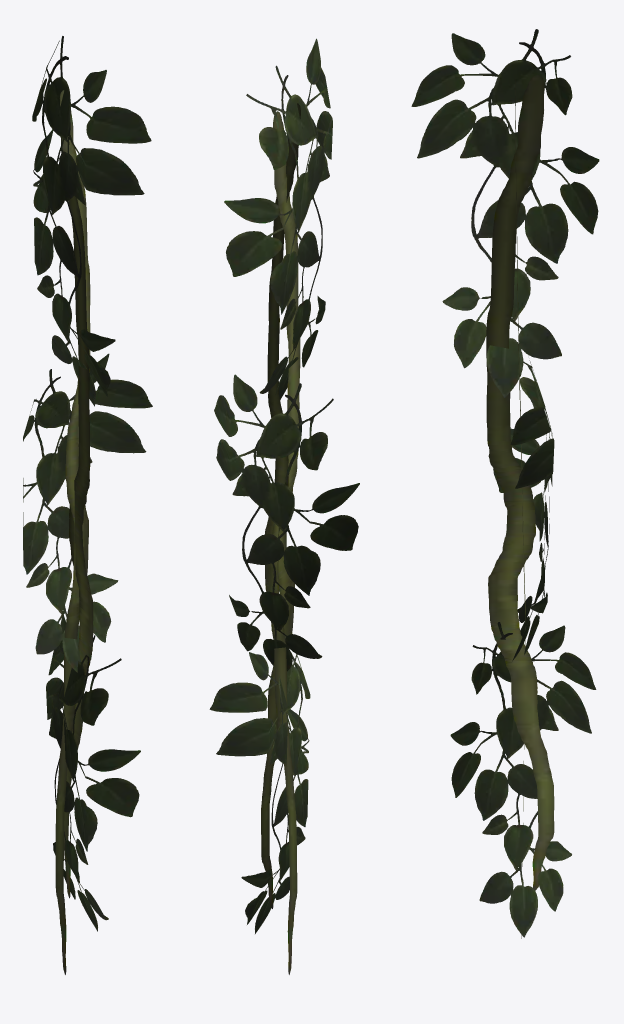
3 renders of one model, left to right at view 1: azimuth 30°, elevation 25°; view 2: azimuth 150°, elevation 25°; view 3: azimuth 270°, elevation 25°, orthographic. The views are drawn at different scales.
Parts seen in each view (by area): view 1: body0_model0_lod0_mesh0; view 2: body0_model0_lod0_mesh0; view 3: body0_model0_lod0_mesh0.
Part boxes in pixels (bbox=[...]): body0_model0_lod0_mesh0: bbox=[23, 36, 152, 974]; body0_model0_lod0_mesh0: bbox=[209, 38, 359, 974]; body0_model0_lod0_mesh0: bbox=[411, 29, 599, 938].
Size of the model in its own units: 47.93 by 292 by 56.3.
Materials: 1 (1 with a texture image).
